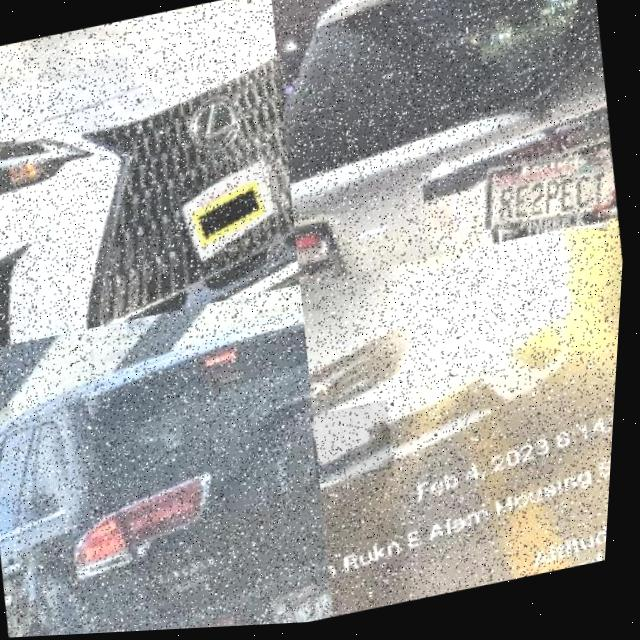LicensePlate: (186, 169, 278, 271), (487, 165, 617, 237), (313, 404, 403, 488), (279, 587, 339, 627)
